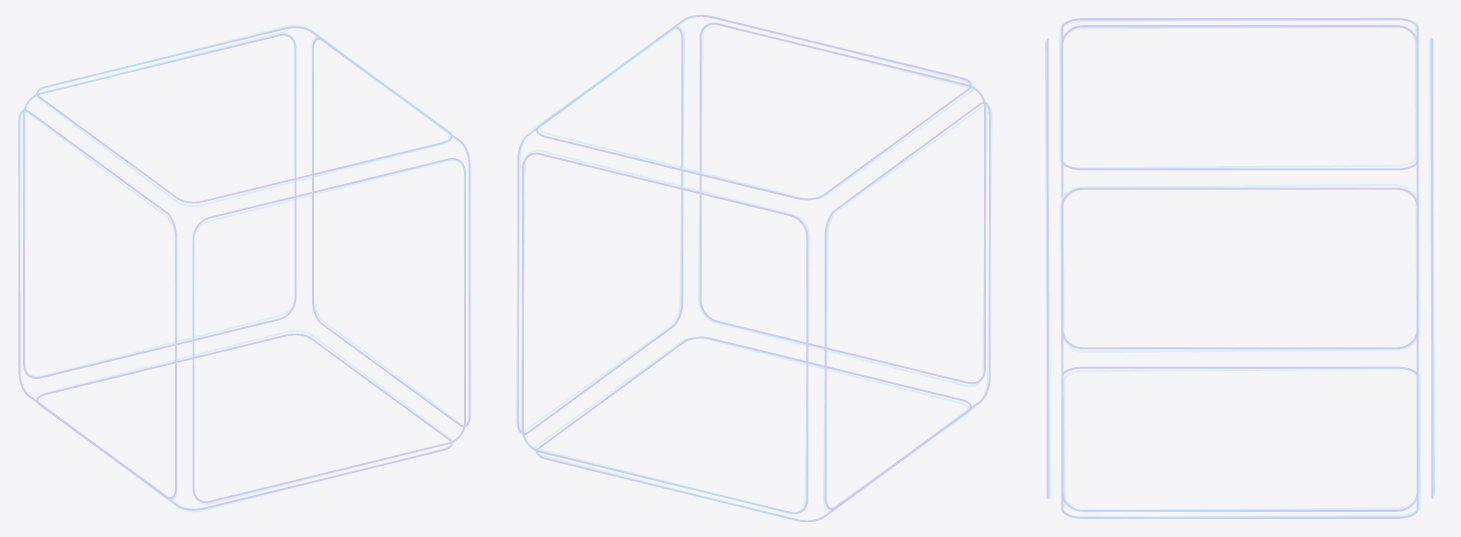
The model's file is quantumcube.glb.
3 renders of one model, left to right at view 1: azimuth 30°, elevation 25°; view 2: azimuth 150°, elevation 25°; view 3: azimuth 270°, elevation 25°, orthographic. The views are drawn at different scales.
Visible parts, largest first — view 1: no part large enough to name; view 2: no part large enough to name; view 3: Cube006_7.
Part boxes in pixels (bbox=[...]): Cube006_7: bbox=[1045, 39, 1434, 497].
Size of what is drawn, in the model's own units: 13.21 by 13.94 by 13.15.
